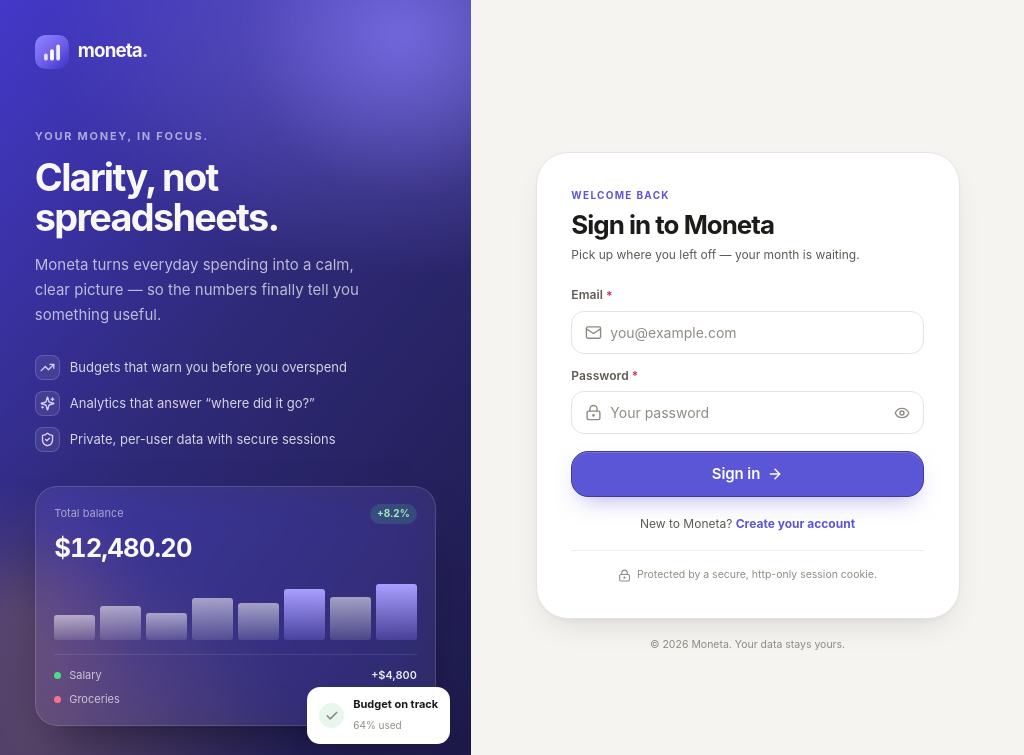
Test case: LoginPage › shows the API error message when credentials are rejected
In the field labelled "Email *": x=748, y=332 left=572, top=312, right=923, bottom=353, type "jane@example.com"
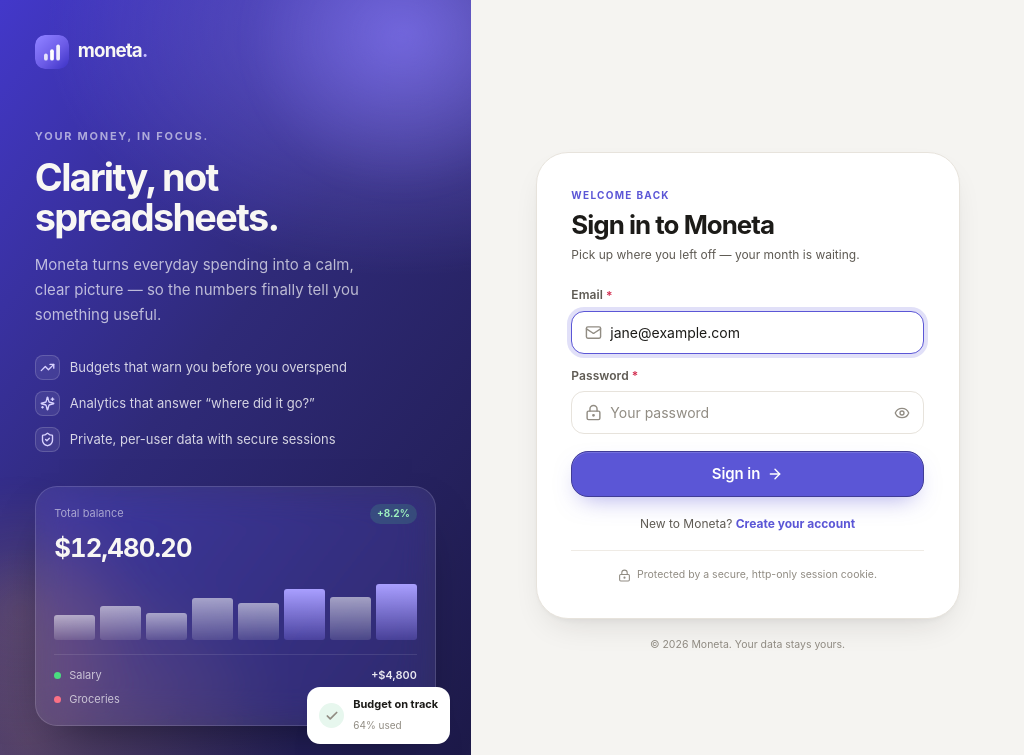
In the password field labelled "Password *": x=748, y=413 left=572, top=392, right=923, bottom=433, type "wrong-password"
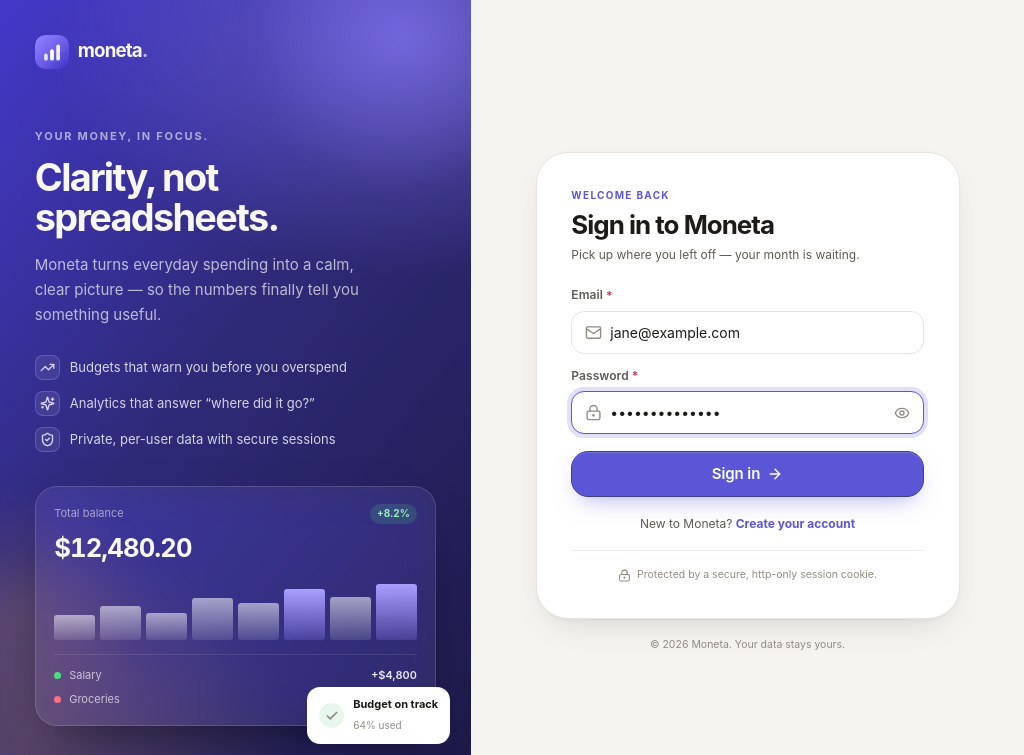
Click the button "Sign in": x=748, y=474 left=571, top=451, right=924, bottom=497
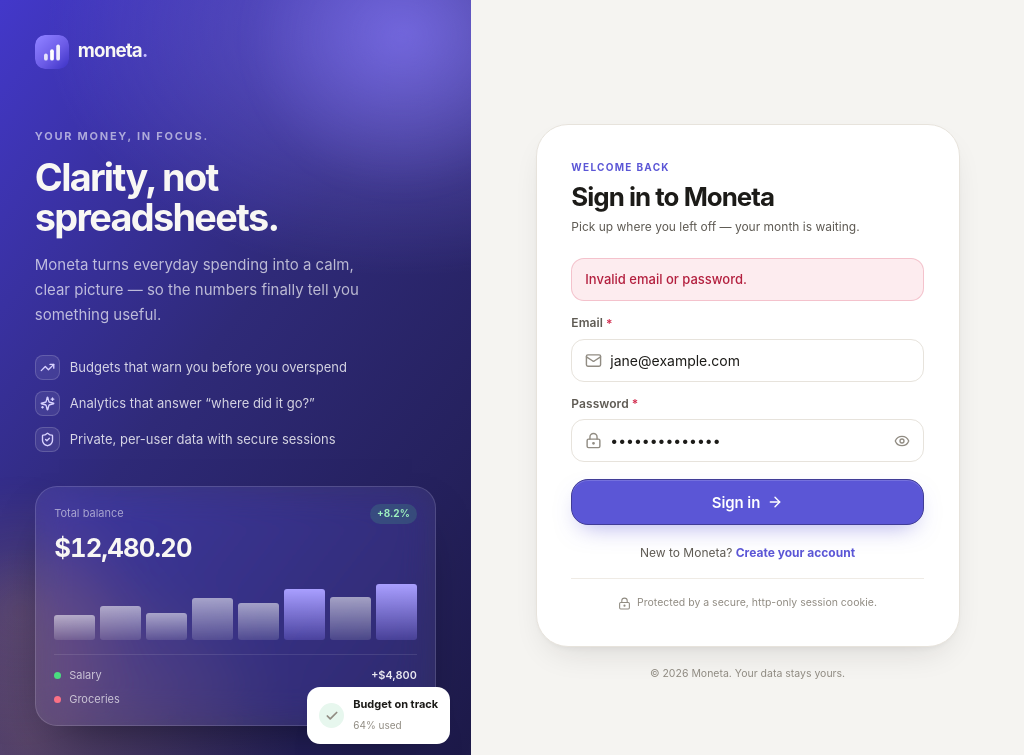
Expected: the message reads "Invalid email or password.", left=585, top=271, right=747, bottom=287
